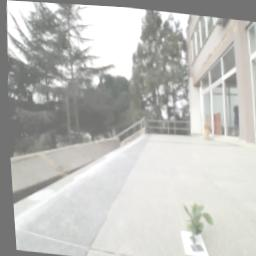herb: (177, 196, 212, 239)
